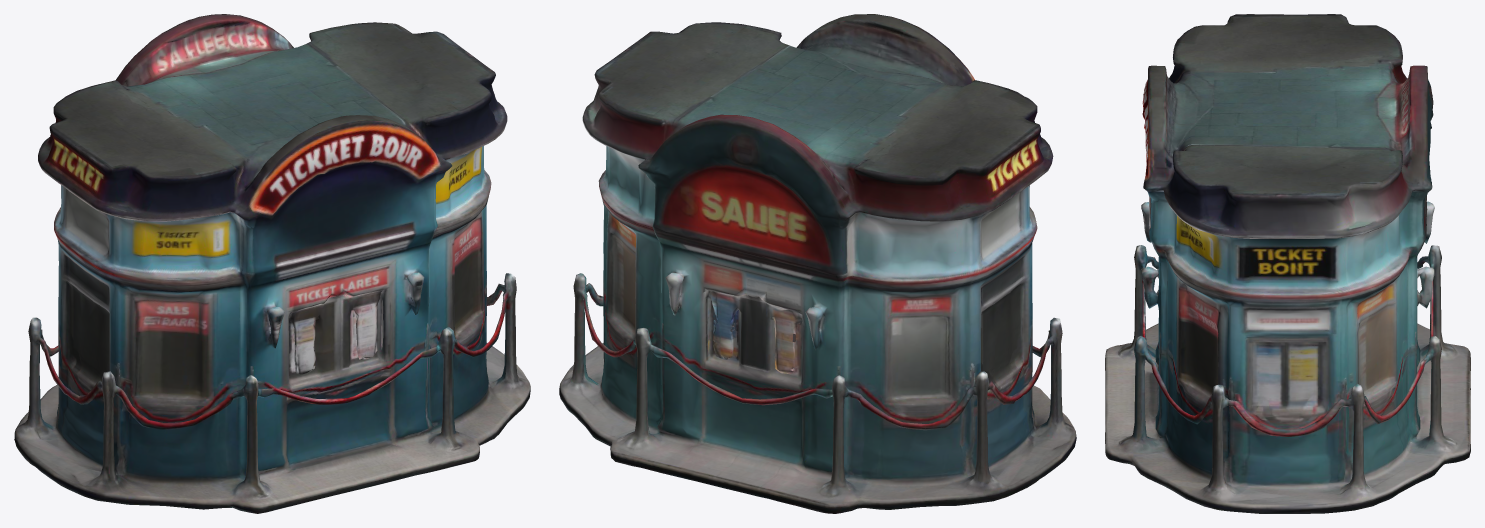
The picture shows the model from 3 angles, left to right: view 1: azimuth 30°, elevation 25°; view 2: azimuth 150°, elevation 25°; view 3: azimuth 270°, elevation 25°; orthographic projection. The views are drawn at different scales.
Visible parts, largest first — view 1: Mesh1; view 2: Mesh1; view 3: Mesh1.
Part boxes in pixels (x1,y1,x2,y2): Mesh1: (14,14,530,513); Mesh1: (559,14,1076,513); Mesh1: (1105,14,1470,513).
Size of the model in its own units: 200 by 145 by 145.
1 material, 1 textured.
